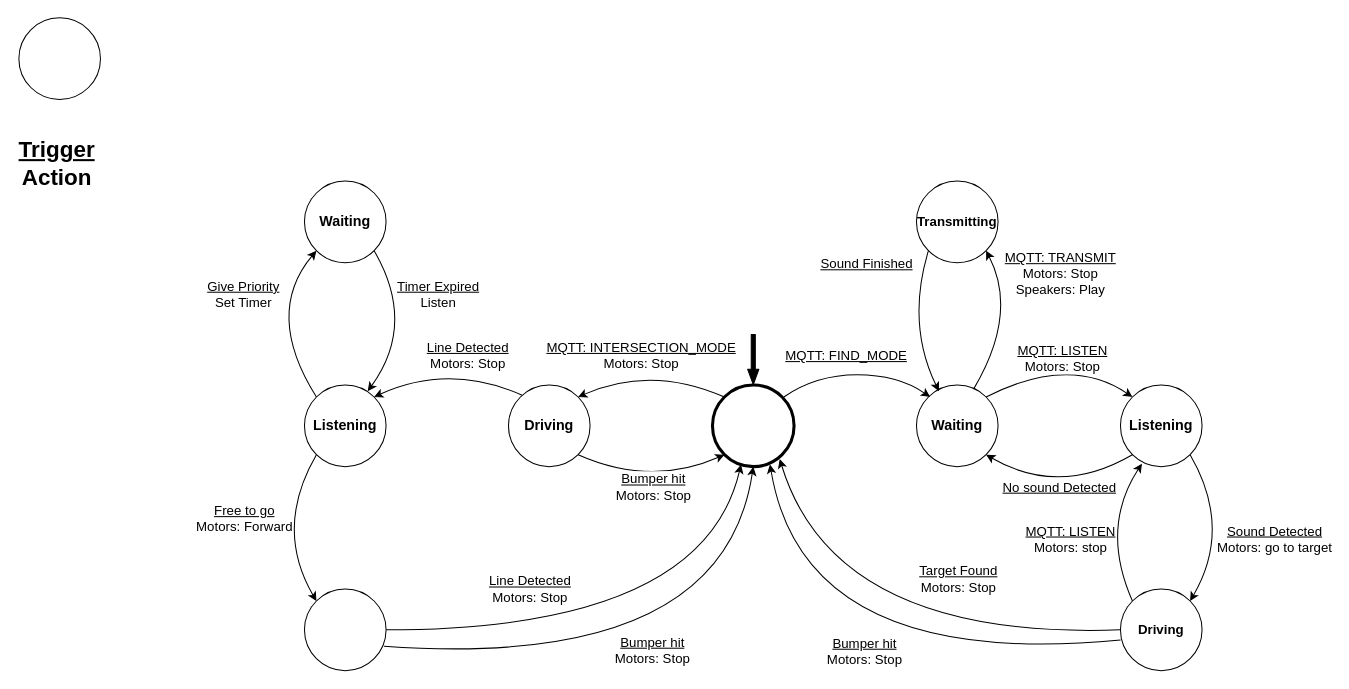
Some shapes in this 1349 by 689 pixel diagram are drawn without their labels. Here are the shapes that lost their labels. From the top down, the box of each, then its label:
(18, 17, 100, 99): State
(710, 383, 795, 468): Idle
(303, 588, 386, 671): Crossing
